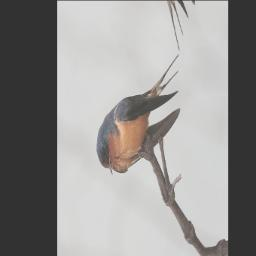Swallow: (92, 20, 187, 205)
